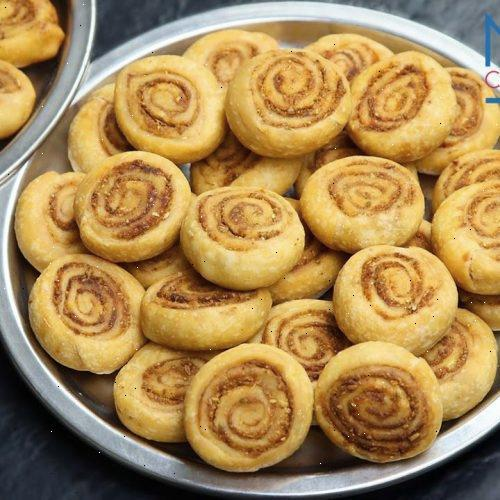bhakarwadi: (24, 43, 500, 464)
